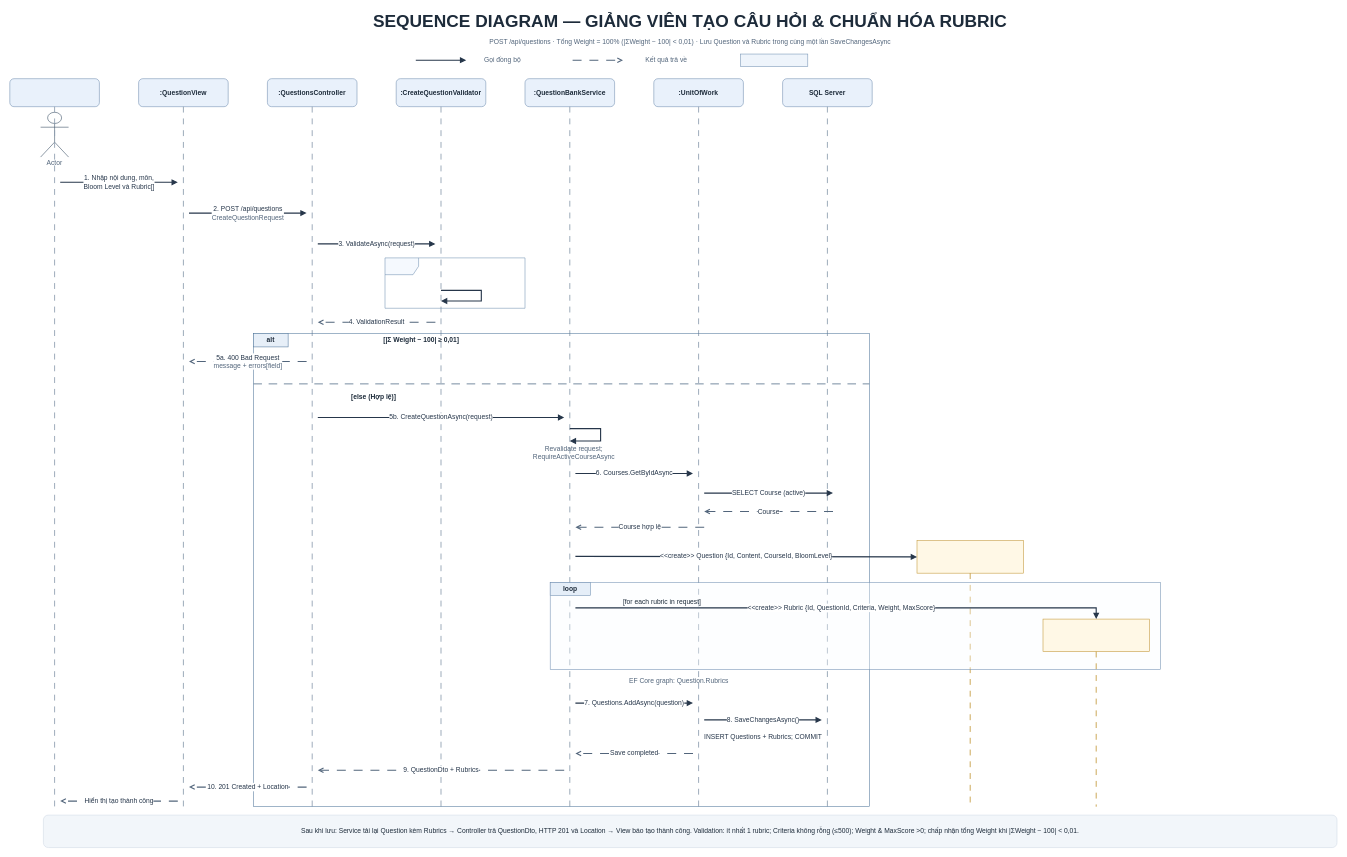
This 1347x857 diagram has some shape labels left out. Here are the shapes that lost their labels. From the top down, the centre of each, then its label:
At pixel 774 59: "alt / loop".
At pixel 54 92: "Lecturer".
At pixel 454 282: "loop [for each rubric in request]".
At pixel 969 556: ":Question".
At pixel 1095 635: ":Rubric".
